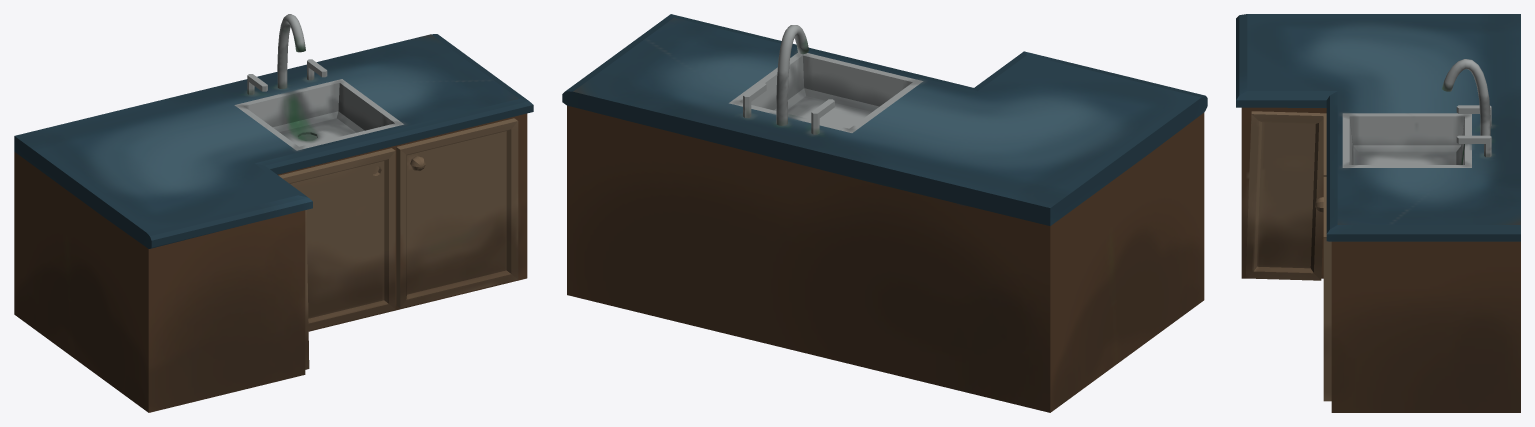
File: SinkKitchen.fbx
3 renders of one model, left to right at view 1: azimuth 30°, elevation 25°; view 2: azimuth 150°, elevation 25°; view 3: azimuth 270°, elevation 25°, orthographic. The views are drawn at different scales.
Parts seen in each view (by area): view 1: SinkKitchen, Canilla; view 2: SinkKitchen, Canilla; view 3: SinkKitchen, Canilla, Manija2.
Part boxes in pixels (x1,y1,x2,y2): SinkKitchen: [14, 34, 533, 412]; Canilla: [277, 14, 305, 88]; SinkKitchen: [562, 14, 1207, 412]; Canilla: [776, 25, 808, 125]; SinkKitchen: [1236, 14, 1520, 412]; Canilla: [1442, 59, 1490, 135]; Manija2: [1456, 135, 1491, 157].
Size of the model in its own units: 790 by 456 by 441.
